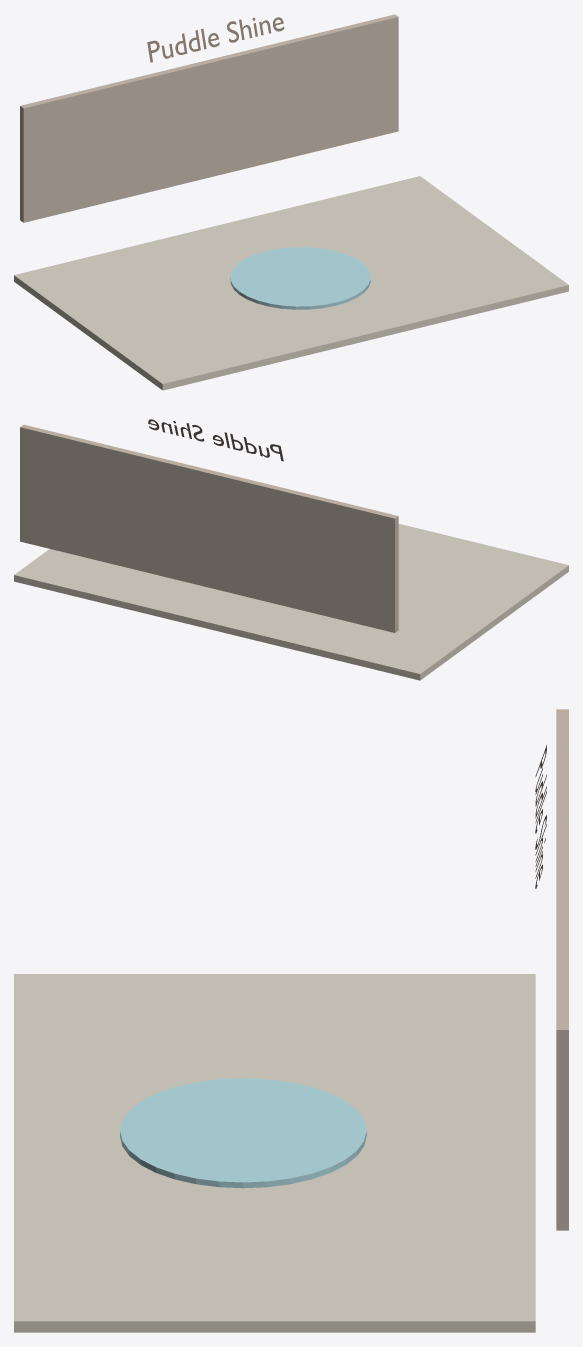
Rendered from 13_water.glb.
3 views of the same model, one above another, from view 1: azimuth 30°, elevation 25°; view 2: azimuth 150°, elevation 25°; view 3: azimuth 270°, elevation 25° (orthographic). The views are drawn at different scales.
Parts seen in each view (by area): view 1: PaperFloor-col, BackCard, PuddleShine, TitleLabel; view 2: BackCard, PaperFloor-col, TitleLabel; view 3: PaperFloor-col, PuddleShine, BackCard.
Part boxes in pixels (box(x1,y1,x2,y2)): PaperFloor-col: box(14, 176, 568, 390); BackCard: box(20, 14, 398, 222); PuddleShine: box(230, 247, 370, 309); TitleLabel: box(147, 17, 284, 62); BackCard: box(20, 424, 398, 632); PaperFloor-col: box(14, 524, 568, 680); TitleLabel: box(148, 419, 283, 461); PaperFloor-col: box(14, 974, 535, 1332); PuddleShine: box(120, 1078, 366, 1188); BackCard: box(556, 709, 568, 1230).
Size of the model in its own units: 5.2 by 2.5 by 3.51.
